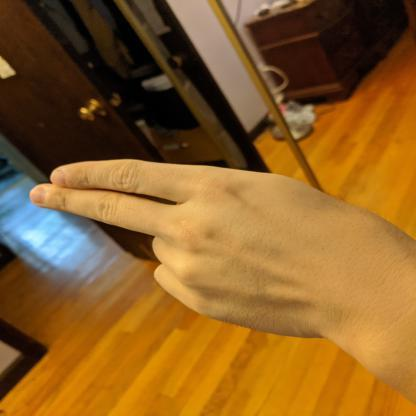H: (25, 155, 380, 346)
